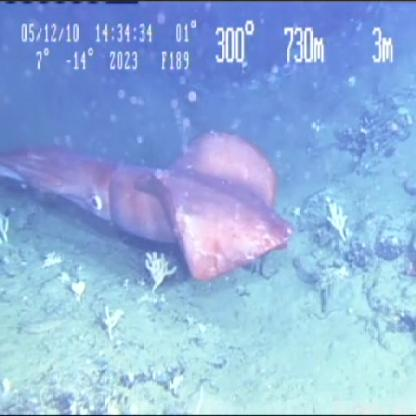Bio: (1, 126, 299, 288), (142, 247, 180, 296), (101, 303, 128, 341)
